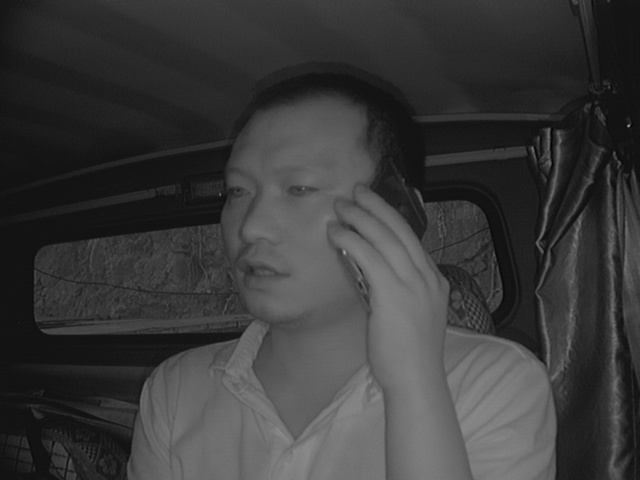hand: (333, 187, 446, 379)
